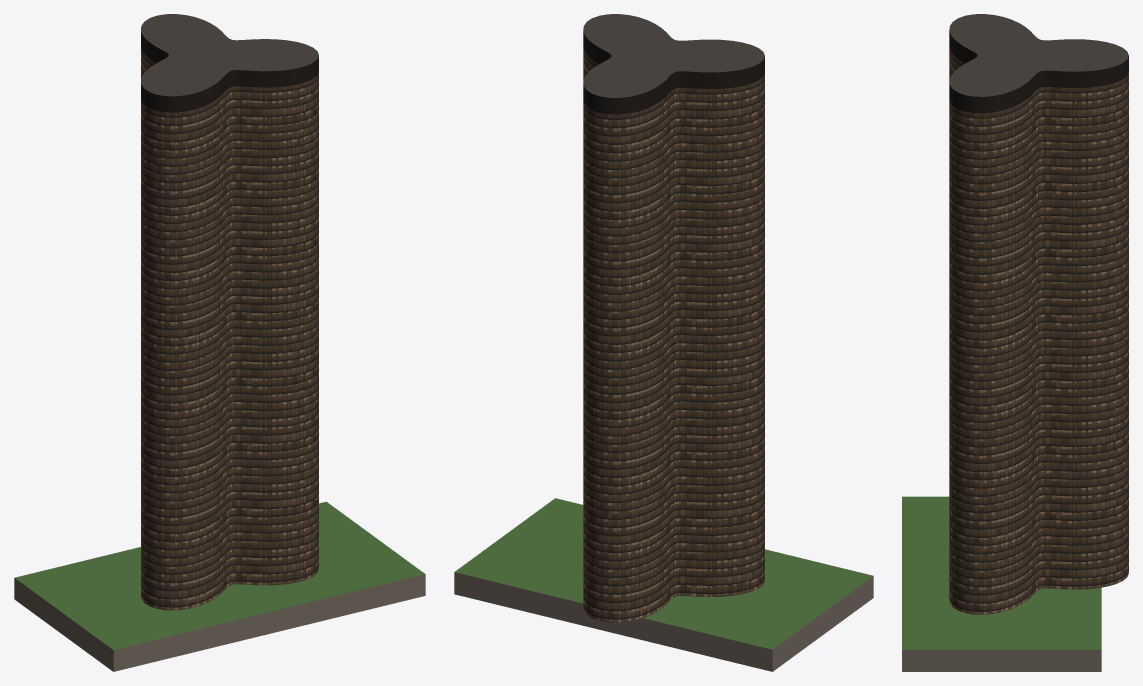
The model's file is lake_point_tower.glb.
3 views of the same model, side by side, from view 1: azimuth 30°, elevation 25°; view 2: azimuth 150°, elevation 25°; view 3: azimuth 270°, elevation 25° (orthographic). The views are drawn at different scales.
Parts seen in each view (by area): view 1: lake_point_tower; view 2: lake_point_tower; view 3: lake_point_tower.
Part boxes in pixels (left/top/right/bottom): lake_point_tower: left=14, top=14, right=425, bottom=671; lake_point_tower: left=454, top=14, right=873, bottom=671; lake_point_tower: left=902, top=14, right=1128, bottom=671.
Bounding box in the file's own units: 120 × 197 × 75.
Materials: 2 (2 with a texture image).
